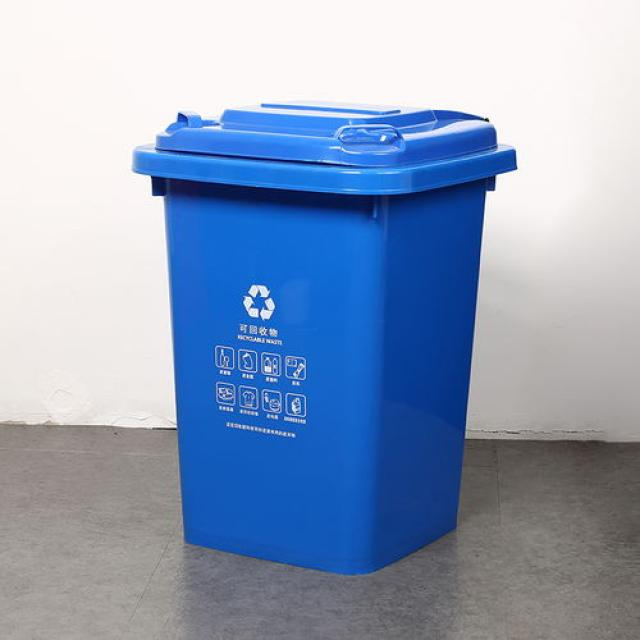garbage_bin: (129, 101, 517, 572)
